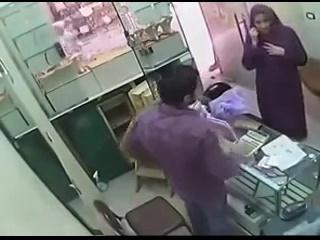Normal: (122, 66, 248, 234), (241, 4, 309, 142), (94, 196, 192, 236)
